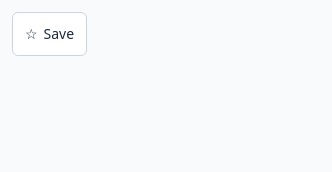
Test: SaveButton › toggles saved state accessibly
Click the button with aria-label "Save Chevening": x=50, y=34 [12, 12, 87, 56]
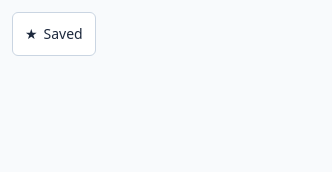
Result: the button with aria-label "Remove Chevening from saved" is pressed at [12, 12, 96, 56]
